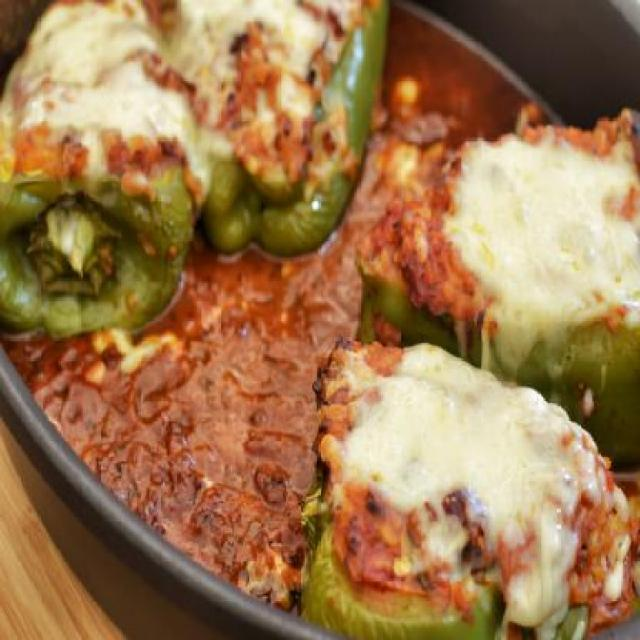Bell pepper: (298, 339, 636, 639), (358, 124, 640, 461), (0, 0, 195, 332), (169, 0, 391, 260)
